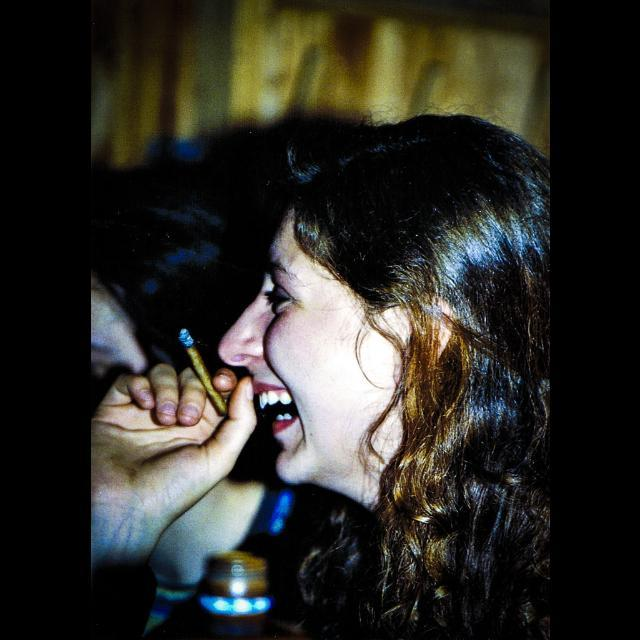rokok: (176, 325, 228, 419)
